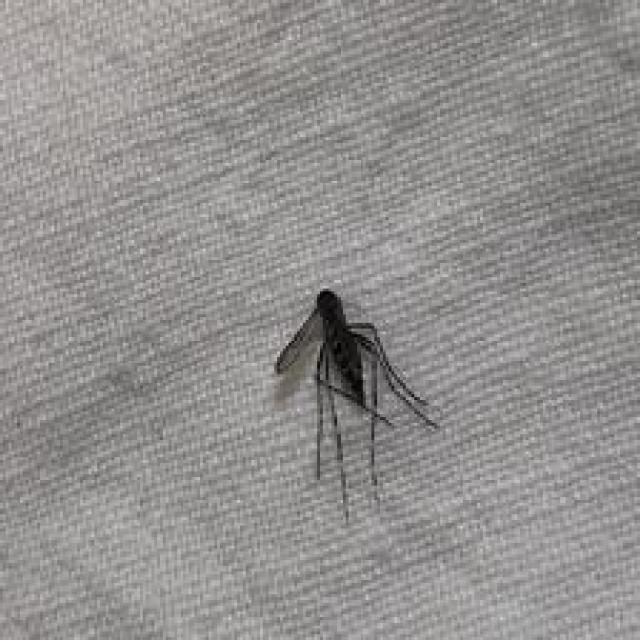Aedes albopictus: (271, 287, 440, 524)
